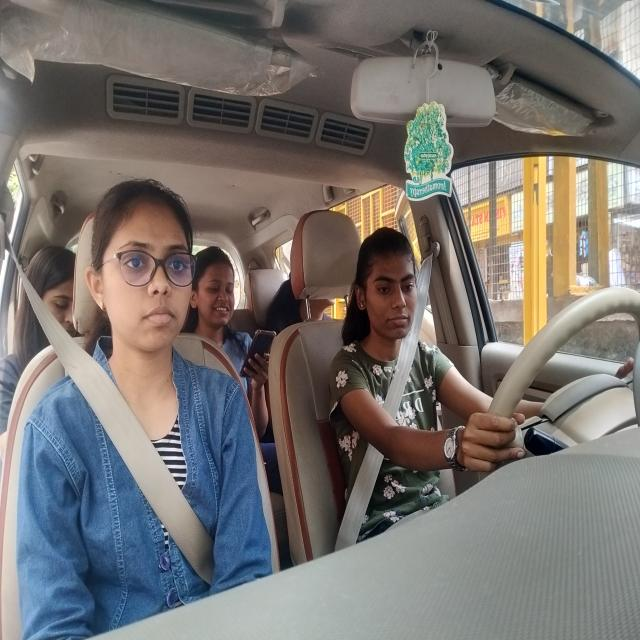person: (83, 174, 201, 371), (22, 227, 80, 388), (356, 229, 423, 360), (185, 235, 248, 362)
